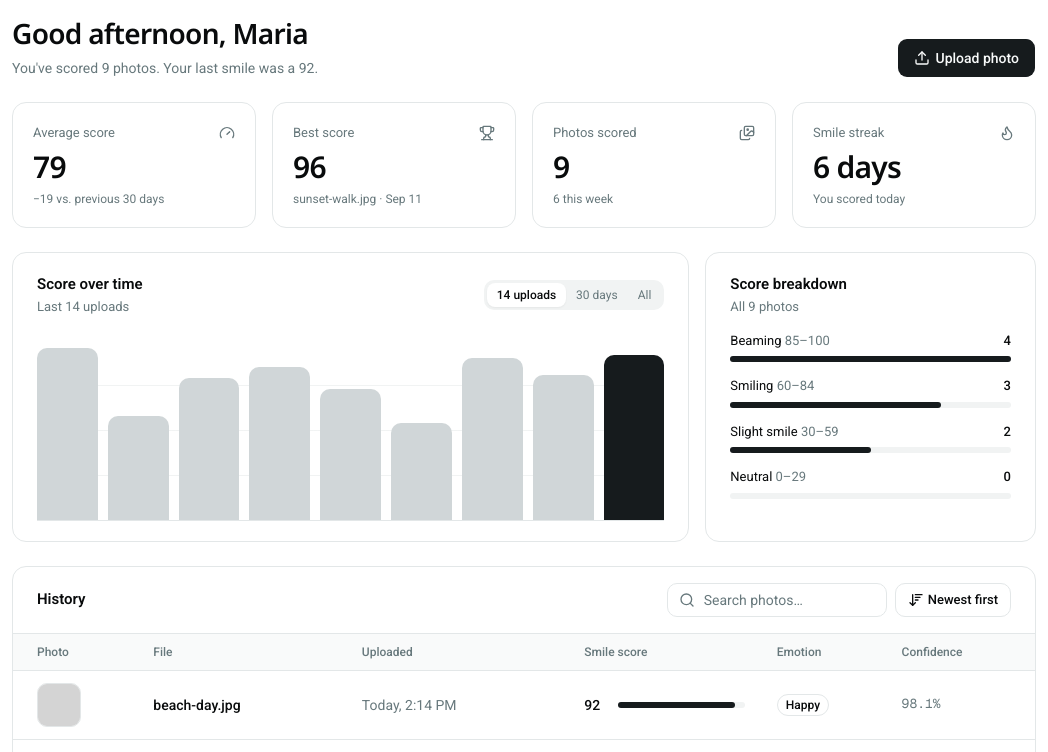
it: DashboardView › switches the chart range
Click the button "30 days" at (597, 294), box top-left (566, 282), bottom-right (628, 306)
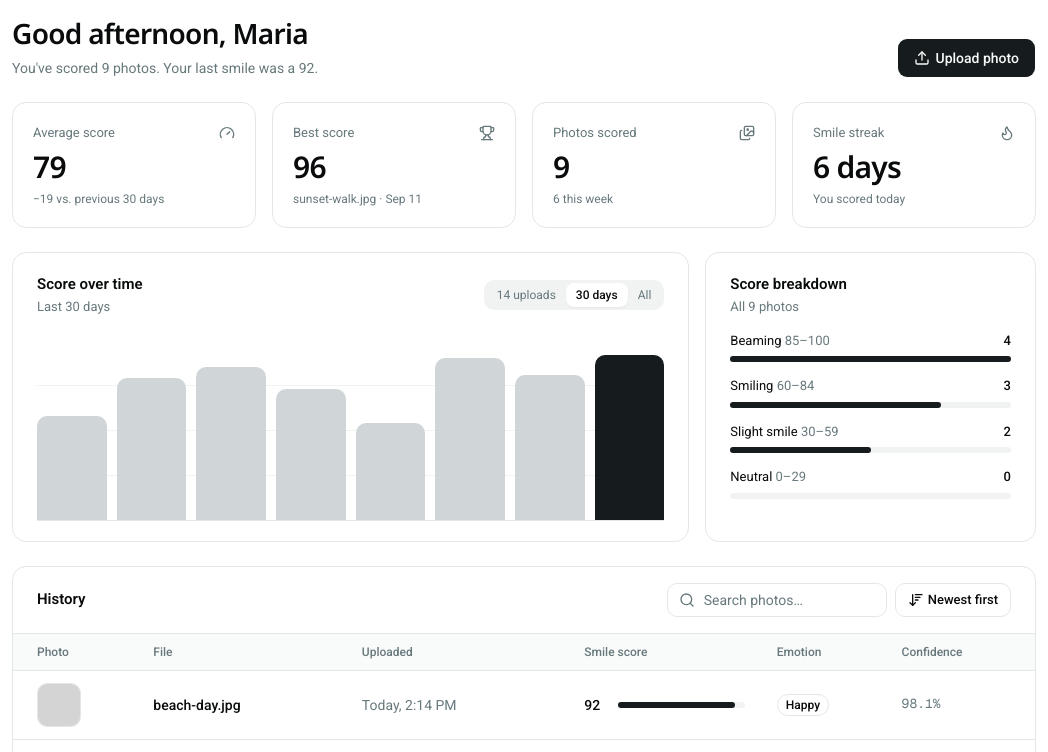
Check: the text "Last 30 days" is shown, box top-left (37, 299), bottom-right (110, 314)
